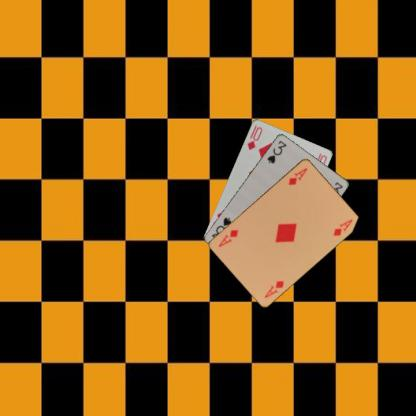10d: (245, 122, 264, 152)
3s: (264, 138, 288, 164)
Ad: (286, 165, 309, 186), (262, 278, 285, 299)
